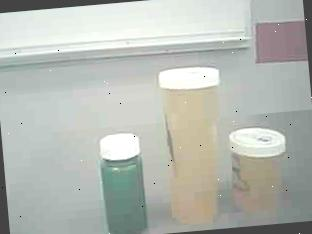Bottle A: (153, 62, 234, 232)
Bottle B: (226, 120, 295, 220)
Bottle C: (94, 129, 153, 234)
